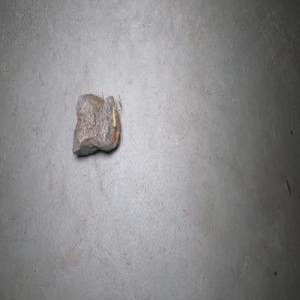Rock: (72, 91, 121, 155)
